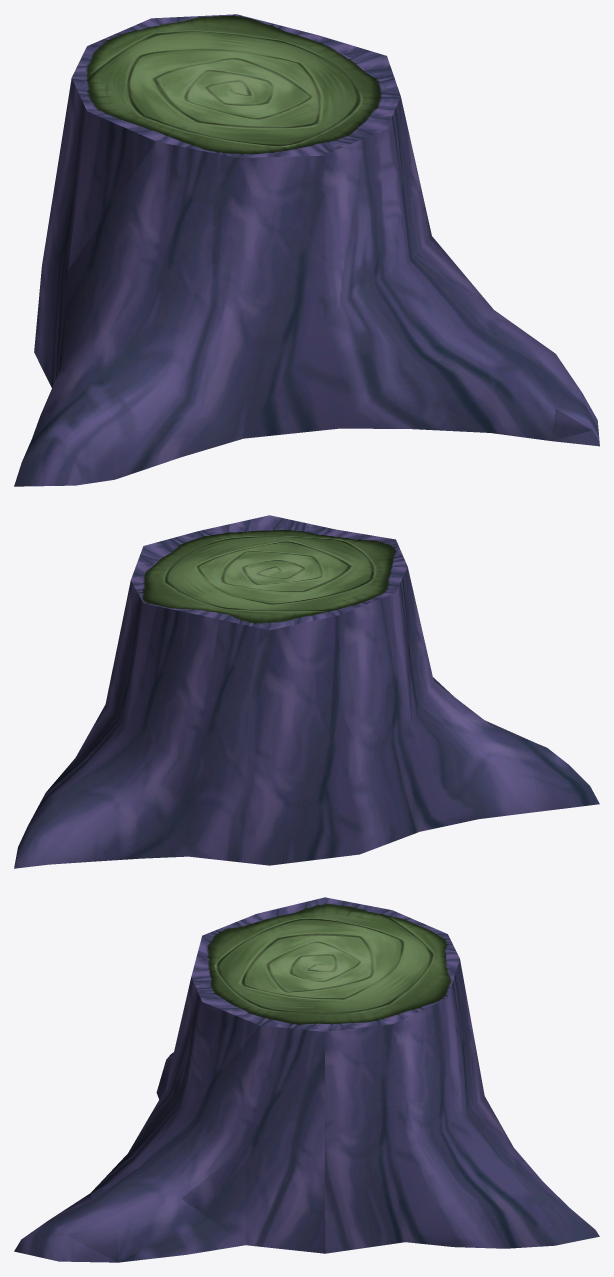
File: Tree_stump_Clean.FBX
3 renders of one model, top to bottom at view 1: azimuth 30°, elevation 25°; view 2: azimuth 150°, elevation 25°; view 3: azimuth 270°, elevation 25°, orthographic. The views are drawn at different scales.
Parts seen in each view (by area): view 1: foilage_tree_stump; view 2: foilage_tree_stump; view 3: foilage_tree_stump.
Boxes of the visible parts, x1=… form: foilage_tree_stump: x1=14, y1=14, x2=599, y2=486; foilage_tree_stump: x1=14, y1=515, x2=599, y2=868; foilage_tree_stump: x1=14, y1=897, x2=599, y2=1262.
Bounding box in the file's own units: 146 × 75.31 × 178.
